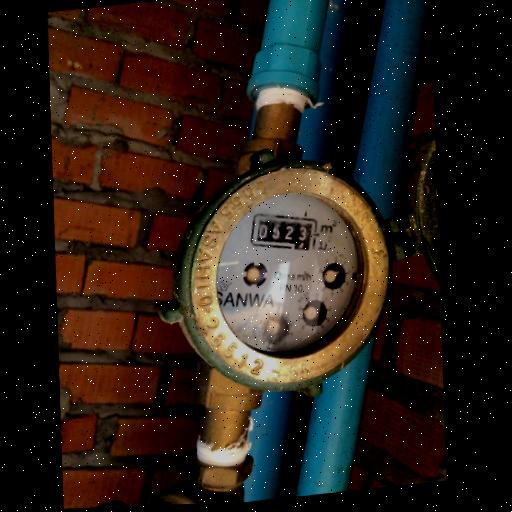0: (255, 218, 274, 244)
2: (279, 219, 299, 245)
3: (291, 221, 313, 252)
5: (266, 219, 286, 244)
border_water_meter_number: (245, 206, 321, 258)
